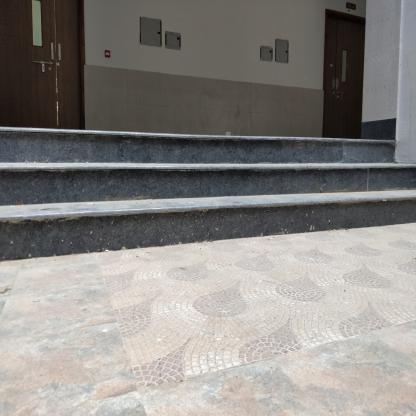stairs: (6, 125, 360, 246)
